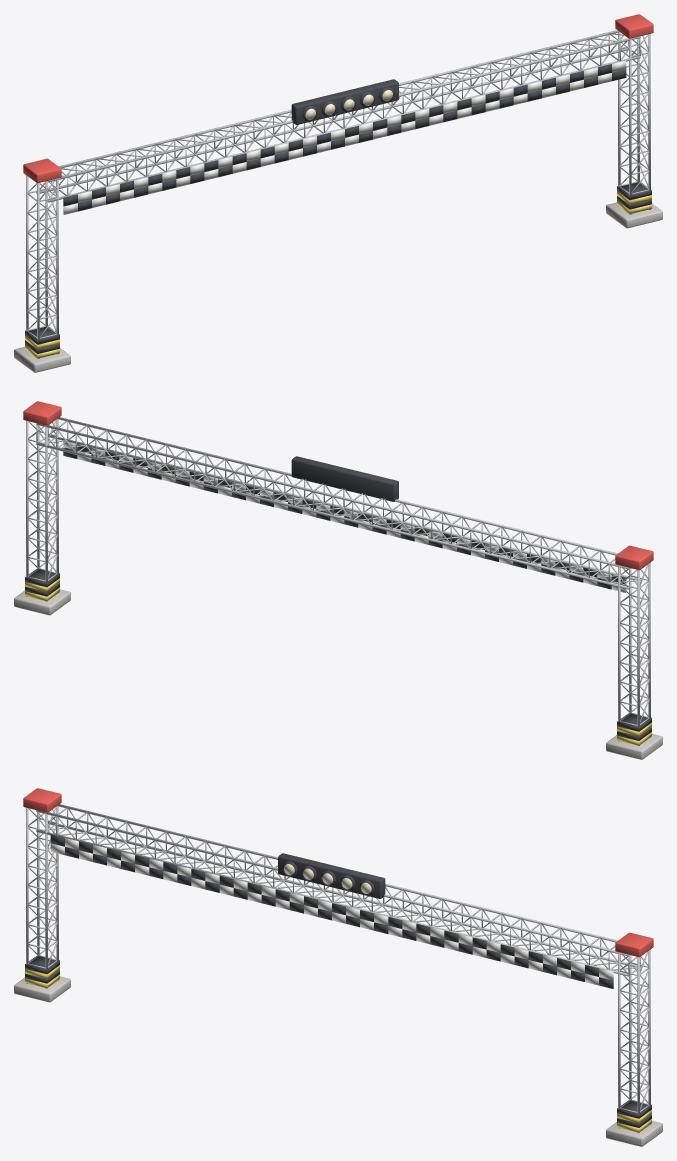
File: FinishArch.fbx
The picture shows the model from 3 angles, top to bottom: view 1: azimuth 30°, elevation 25°; view 2: azimuth 150°, elevation 25°; view 3: azimuth 330°, elevation 25°; orthographic projection.
Visible parts, largest first — view 1: Metal, Dark, White, Concrete, Accent, Yellow, Glow; view 2: Metal, Dark, White, Concrete, Accent, Yellow; view 3: Metal, Dark, White, Concrete, Accent, Yellow, Glow.
Part boxes in pixels (x1,y1,x2,y2): Metal: (26,30,650,358); Dark: (25,64,651,353); White: (63,60,626,214); Concrete: (14,202,662,372); Accent: (23,14,653,183); Yellow: (25,191,651,358); Glow: (305,90,392,119); Metal: (26,417,650,745); Dark: (25,444,651,740); White: (63,441,626,592); Concrete: (14,589,662,759); Accent: (23,401,653,570); Yellow: (25,578,651,745); Metal: (26,804,650,1132); Dark: (25,834,651,1127); White: (50,838,613,985); Concrete: (14,976,662,1146); Accent: (23,788,653,957); Yellow: (25,965,651,1132); Glow: (284,864,371,893).
Bounding box in the file's own units: 85 × 26 × 5.06.
